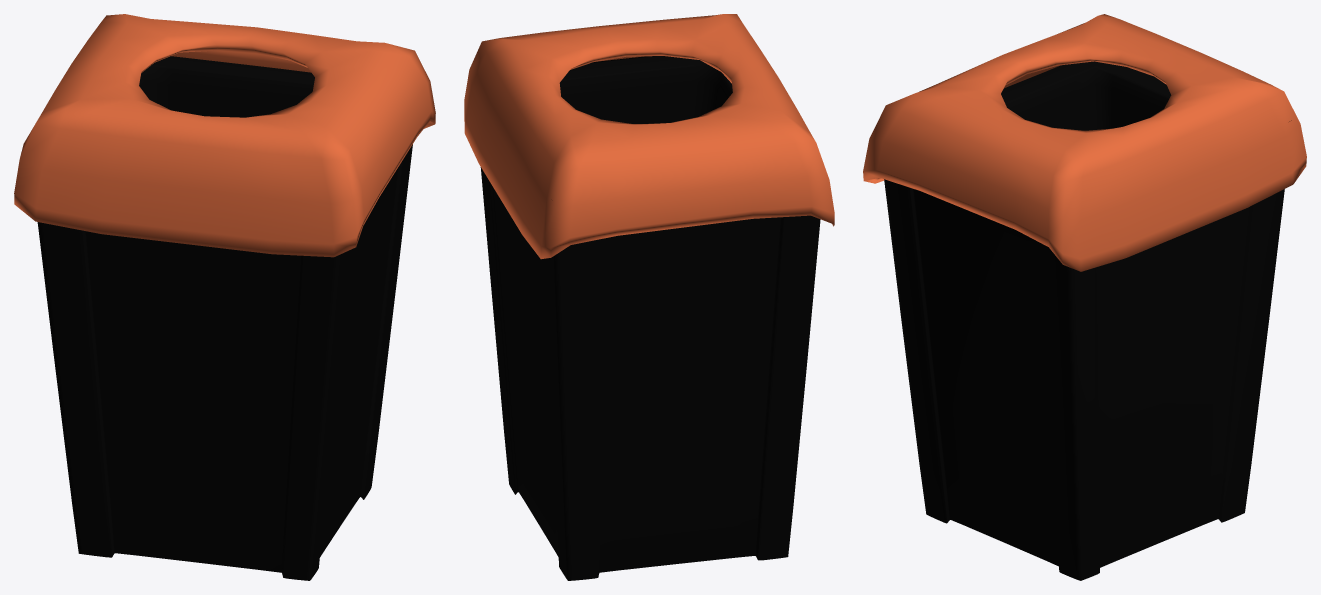
The model's file is red_bin .fbx.
3 renders of one model, left to right at view 1: azimuth 30°, elevation 25°; view 2: azimuth 150°, elevation 25°; view 3: azimuth 270°, elevation 25°, orthographic. The views are drawn at different scales.
Parts seen in each view (by area): view 1: red_one_hole_bin:pCube66; view 2: red_one_hole_bin:pCube66; view 3: red_one_hole_bin:pCube66.
Part boxes in pixels (<box>): red_one_hole_bin:pCube66: <box>14,14,435,580</box>; red_one_hole_bin:pCube66: <box>464,14,834,580</box>; red_one_hole_bin:pCube66: <box>863,14,1306,580</box>.
Size of the model in its own units: 9.85 by 10.53 by 9.91.
